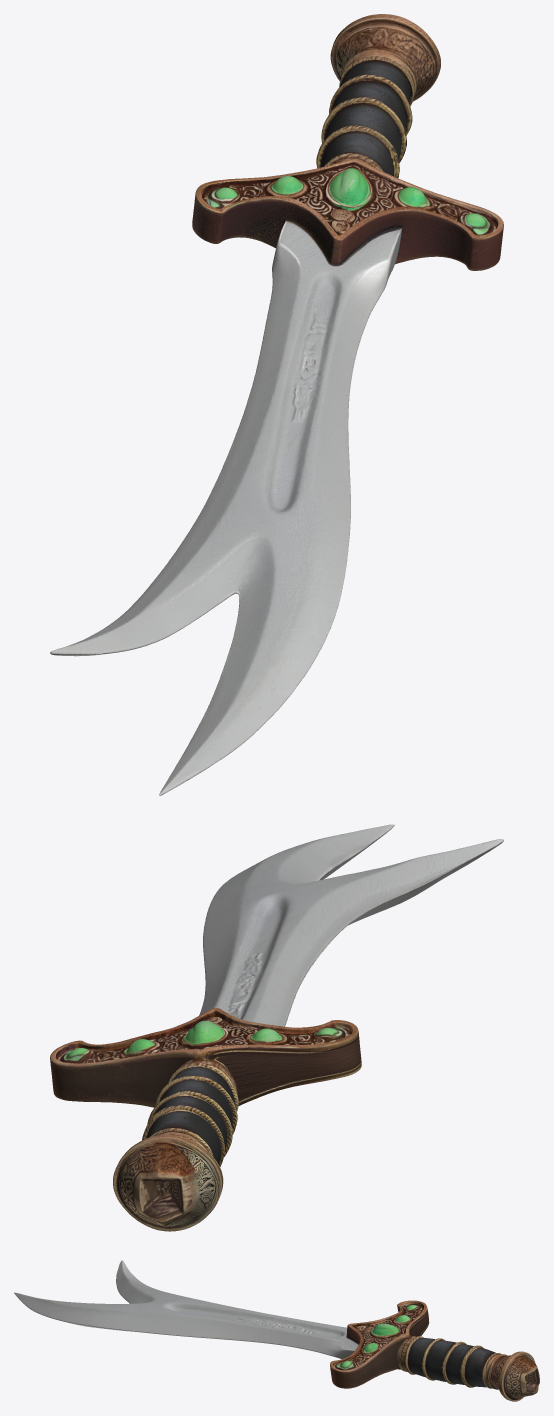
The model's file is ali-sword.glb.
The picture shows the model from 3 angles, top to bottom: view 1: azimuth 30°, elevation 25°; view 2: azimuth 210°, elevation 25°; view 3: azimuth 270°, elevation 25°; orthographic projection. The views are drawn at different scales.
Parts seen in each view (by area): view 1: mesh_node; view 2: mesh_node; view 3: mesh_node.
Part boxes in pixels (x1,y1,x2,y2): mesh_node: (50,14,503,795); mesh_node: (50,824,503,1231); mesh_node: (14,1260,539,1401).
Size of the model in its own units: 1.61 by 0.4711 by 1.9.
Materials: 1 (1 with a texture image).
